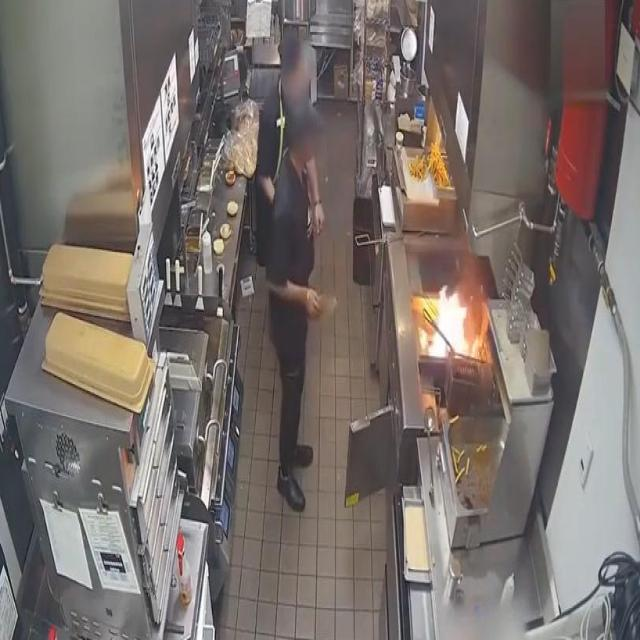smoke: (422, 281, 480, 362)
